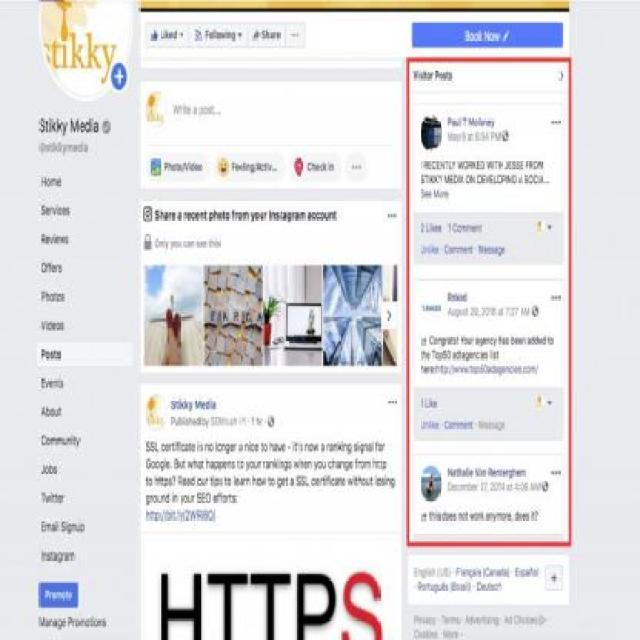0: (446, 349, 451, 360), (483, 363, 488, 374), (484, 307, 490, 316), (494, 482, 498, 492), (521, 482, 524, 492)
1: (251, 416, 254, 427), (420, 398, 422, 408), (498, 482, 500, 492), (448, 223, 450, 232), (489, 307, 491, 316)
2: (185, 509, 190, 520), (480, 307, 486, 316), (479, 482, 484, 492), (420, 223, 425, 232), (470, 307, 475, 316), (491, 482, 494, 492), (512, 307, 514, 316)
4: (500, 482, 506, 492), (484, 132, 490, 140), (514, 482, 518, 492)
5: (479, 363, 484, 374), (442, 351, 447, 358), (482, 132, 484, 140)
6: (474, 130, 480, 142), (492, 306, 496, 317), (524, 482, 528, 492)
7: (514, 307, 518, 316), (484, 482, 487, 492), (506, 307, 508, 316)
8: (203, 509, 208, 520)
9: (462, 130, 466, 142), (474, 307, 478, 316)
A: (334, 477, 340, 486), (518, 174, 524, 183), (256, 162, 261, 172), (529, 482, 534, 492), (176, 212, 182, 220), (294, 212, 300, 220), (306, 212, 312, 220), (184, 444, 190, 452), (238, 444, 244, 452), (238, 478, 244, 486), (450, 119, 456, 127), (466, 133, 472, 141), (474, 337, 480, 345), (486, 366, 492, 374), (478, 469, 484, 477), (484, 512, 490, 520), (464, 616, 470, 624), (193, 106, 198, 115), (186, 477, 191, 486), (289, 477, 294, 486), (520, 307, 525, 316), (460, 174, 465, 183), (539, 174, 544, 183), (94, 121, 98, 132), (41, 406, 45, 417), (196, 461, 202, 468), (45, 618, 49, 628), (54, 618, 58, 628), (269, 32, 274, 40), (282, 212, 287, 220), (320, 444, 325, 452), (452, 133, 457, 141), (489, 569, 494, 577), (164, 211, 168, 220), (448, 307, 452, 316), (212, 402, 217, 409), (210, 461, 215, 468), (265, 461, 270, 468), (336, 461, 341, 468), (452, 352, 457, 359), (84, 144, 88, 152), (51, 524, 55, 532), (54, 552, 58, 560), (274, 444, 278, 452), (368, 444, 372, 452), (498, 308, 502, 316), (502, 337, 506, 345), (494, 366, 498, 374), (452, 469, 456, 477), (458, 584, 462, 592), (504, 616, 508, 624), (187, 240, 190, 248), (330, 444, 333, 452), (494, 246, 497, 254), (494, 422, 498, 428), (462, 470, 466, 476), (507, 484, 510, 492), (462, 570, 466, 576), (473, 569, 476, 577), (497, 569, 500, 577), (504, 569, 507, 577), (526, 569, 529, 577), (66, 552, 68, 560), (448, 337, 450, 345), (426, 617, 428, 625), (528, 338, 530, 344), (462, 352, 464, 358)
B: (174, 458, 180, 469), (166, 509, 171, 520), (46, 406, 50, 416), (50, 464, 54, 474), (465, 32, 470, 40), (468, 482, 472, 492), (452, 582, 457, 590), (202, 417, 205, 426), (180, 417, 182, 426), (512, 336, 514, 344)
C: (444, 419, 450, 430), (306, 162, 312, 172), (429, 334, 434, 346), (453, 222, 458, 233), (330, 477, 336, 486), (444, 244, 450, 253), (41, 434, 45, 446), (190, 212, 196, 220), (160, 444, 166, 452), (180, 444, 186, 452), (310, 478, 316, 486), (484, 568, 490, 576), (514, 614, 518, 626), (526, 617, 532, 625), (533, 174, 538, 183), (432, 160, 436, 171), (260, 163, 265, 171), (319, 164, 324, 172), (316, 212, 321, 220), (250, 444, 255, 452), (508, 367, 514, 373), (312, 212, 316, 220), (414, 630, 418, 638), (183, 241, 188, 247), (522, 367, 527, 373), (58, 208, 62, 215), (328, 461, 332, 468), (494, 584, 497, 592), (476, 352, 479, 359), (490, 338, 493, 344), (456, 484, 459, 490), (430, 617, 432, 623)
D: (84, 119, 90, 132), (190, 162, 196, 172), (172, 29, 177, 40), (205, 398, 210, 409), (165, 492, 170, 503), (480, 161, 486, 170), (476, 174, 482, 183), (190, 476, 195, 486), (462, 292, 467, 302), (542, 334, 546, 346), (514, 512, 520, 520), (508, 614, 512, 626), (196, 417, 201, 426), (78, 142, 82, 153), (48, 320, 52, 331), (454, 173, 458, 184), (448, 482, 452, 492), (476, 582, 481, 590), (456, 349, 459, 360), (442, 512, 446, 520), (532, 334, 534, 346), (501, 568, 504, 576), (470, 614, 472, 626), (536, 334, 538, 344), (492, 364, 494, 372)
E: (78, 121, 85, 132), (200, 492, 206, 503), (234, 477, 240, 486), (280, 477, 286, 486), (340, 477, 346, 486), (194, 164, 200, 172), (238, 164, 244, 172), (186, 212, 192, 220), (194, 212, 200, 220), (164, 444, 170, 452), (190, 444, 196, 452), (254, 444, 260, 452), (280, 444, 286, 452), (434, 246, 440, 254), (500, 246, 506, 254), (514, 337, 520, 345), (430, 632, 436, 640), (454, 632, 460, 640), (45, 207, 50, 216), (186, 106, 191, 115), (230, 444, 235, 453), (182, 477, 187, 486), (315, 477, 320, 486), (436, 161, 441, 170), (508, 160, 512, 171), (200, 402, 206, 409), (470, 225, 476, 232), (468, 352, 474, 359), (434, 422, 440, 429), (500, 422, 506, 429), (73, 144, 78, 152), (56, 178, 60, 188), (45, 236, 50, 244), (62, 618, 66, 628), (41, 378, 45, 388), (41, 522, 45, 532), (199, 240, 204, 248), (203, 240, 208, 248), (213, 495, 218, 503), (459, 294, 464, 302), (482, 337, 487, 345), (502, 469, 507, 477), (516, 469, 521, 477), (449, 513, 454, 521), (62, 207, 66, 216), (51, 264, 55, 273), (172, 211, 176, 220), (458, 484, 464, 490), (444, 618, 450, 624), (428, 161, 432, 170), (166, 461, 171, 468), (222, 461, 227, 468), (303, 461, 308, 468), (349, 461, 354, 468), (426, 352, 431, 359), (477, 160, 480, 171), (450, 173, 453, 184), (490, 173, 493, 184), (55, 236, 59, 244), (52, 322, 56, 330), (49, 380, 53, 388), (58, 495, 62, 503), (68, 592, 72, 600), (424, 190, 428, 198), (428, 190, 432, 198), (484, 246, 488, 254), (538, 337, 542, 345), (502, 366, 506, 374), (514, 366, 518, 374), (492, 469, 496, 477), (452, 484, 456, 492), (472, 484, 476, 492), (508, 513, 512, 521), (414, 568, 418, 576), (276, 32, 281, 38), (433, 401, 438, 407), (475, 618, 480, 624), (434, 225, 438, 232), (484, 422, 488, 429), (520, 161, 523, 170), (316, 164, 319, 172), (193, 418, 196, 426), (464, 246, 467, 254), (518, 338, 522, 344), (424, 367, 428, 373), (431, 366, 434, 374), (470, 469, 473, 477), (523, 513, 526, 521), (531, 617, 534, 625), (216, 417, 218, 426), (464, 422, 467, 428), (482, 174, 484, 183), (170, 32, 172, 40), (236, 164, 238, 172), (446, 190, 448, 198), (516, 568, 518, 576), (482, 352, 484, 359), (488, 120, 490, 126), (482, 584, 484, 590)
F: (230, 162, 236, 172), (455, 567, 460, 578), (525, 160, 530, 169), (204, 31, 210, 38), (176, 441, 179, 452), (46, 262, 48, 273), (49, 262, 51, 273), (232, 209, 234, 220), (376, 441, 378, 452), (220, 492, 222, 503), (355, 458, 357, 468), (326, 476, 328, 486), (218, 492, 219, 503)
G: (344, 461, 350, 472), (496, 246, 502, 257), (478, 337, 484, 348), (464, 351, 470, 362), (286, 212, 292, 222), (346, 444, 352, 454), (276, 478, 282, 488), (390, 478, 396, 488), (225, 443, 230, 454), (359, 443, 364, 454), (159, 461, 164, 472), (283, 461, 288, 472), (146, 458, 151, 469), (512, 173, 517, 184), (57, 618, 61, 630), (230, 32, 236, 40), (440, 338, 446, 346), (250, 164, 255, 173), (57, 552, 61, 563), (68, 524, 72, 534), (146, 494, 149, 506), (434, 584, 438, 593), (498, 367, 502, 375), (422, 568, 424, 580), (456, 308, 458, 318), (498, 422, 500, 432), (496, 617, 498, 626), (510, 471, 512, 478)
H: (498, 160, 504, 171), (252, 474, 257, 486), (159, 209, 164, 220), (213, 209, 218, 220), (269, 441, 274, 452), (373, 458, 378, 469), (193, 458, 198, 468), (206, 458, 211, 468), (299, 458, 304, 468), (332, 458, 337, 468), (358, 474, 362, 486), (42, 176, 46, 187), (168, 162, 172, 172), (312, 162, 316, 172), (420, 364, 425, 372), (46, 290, 49, 302), (146, 509, 149, 520), (513, 467, 516, 478), (498, 336, 502, 344), (432, 568, 436, 576), (518, 616, 522, 624), (257, 417, 260, 426), (234, 417, 237, 425), (436, 364, 439, 372), (498, 580, 500, 592), (266, 31, 269, 38), (423, 351, 426, 358), (212, 238, 214, 248), (156, 476, 158, 486), (190, 417, 192, 426), (460, 468, 462, 476), (432, 512, 434, 520)
I: (244, 160, 247, 172), (174, 441, 177, 452), (163, 29, 166, 38), (49, 119, 51, 132), (92, 119, 94, 132), (72, 434, 74, 446), (55, 520, 57, 532), (66, 520, 68, 532), (183, 417, 186, 425), (325, 474, 327, 486), (329, 474, 331, 486), (353, 474, 355, 486), (384, 474, 386, 486), (526, 614, 528, 626), (52, 142, 54, 153), (82, 142, 84, 153), (56, 203, 58, 214), (54, 233, 56, 244), (92, 616, 94, 627), (46, 319, 48, 330), (182, 103, 184, 114), (178, 398, 180, 409), (179, 441, 181, 452), (249, 441, 251, 452), (292, 441, 294, 452), (342, 441, 344, 452), (358, 441, 360, 452), (172, 492, 174, 503), (269, 209, 271, 220), (202, 509, 204, 520), (423, 70, 425, 81), (266, 162, 268, 172), (278, 458, 280, 468), (430, 222, 432, 232), (428, 398, 430, 408), (226, 29, 228, 38), (418, 71, 420, 80), (430, 244, 432, 253), (426, 567, 428, 576), (420, 161, 422, 170), (492, 161, 494, 170), (458, 174, 460, 183), (506, 174, 508, 183), (538, 174, 540, 183), (189, 162, 191, 170), (328, 162, 330, 170), (512, 364, 514, 372), (468, 468, 470, 476), (435, 512, 437, 520), (530, 512, 532, 520), (476, 568, 478, 576), (465, 582, 467, 590), (420, 615, 422, 623), (484, 616, 486, 624), (489, 615, 491, 623), (429, 630, 431, 638), (428, 175, 430, 183), (479, 351, 481, 358), (492, 351, 494, 358), (430, 421, 432, 428), (213, 474, 214, 486), (211, 398, 212, 409), (198, 441, 199, 452), (171, 509, 172, 520), (51, 492, 52, 502), (216, 238, 217, 248), (41, 552, 42, 560)
J: (40, 464, 45, 474), (506, 160, 508, 171), (213, 508, 214, 522)
K: (69, 33, 86, 69), (86, 32, 102, 70), (478, 30, 484, 42), (184, 398, 190, 409), (165, 28, 170, 40), (180, 398, 185, 409), (52, 119, 56, 132), (57, 119, 61, 132), (472, 161, 477, 170), (54, 142, 58, 153), (59, 142, 63, 153), (338, 441, 342, 452), (274, 458, 278, 468), (432, 244, 436, 253), (434, 174, 438, 183), (456, 292, 459, 302), (431, 398, 434, 408), (432, 421, 436, 428), (431, 174, 434, 183), (323, 162, 326, 170), (481, 512, 484, 520), (427, 630, 430, 638), (432, 223, 434, 232)
L: (304, 476, 310, 486), (448, 161, 452, 170), (163, 238, 166, 248), (163, 458, 166, 468), (426, 223, 429, 232), (494, 174, 497, 183), (374, 474, 376, 486), (372, 441, 374, 452), (156, 441, 158, 452), (160, 31, 163, 38), (214, 31, 217, 38), (426, 398, 428, 408), (459, 117, 461, 126), (478, 117, 480, 126), (429, 244, 431, 253), (466, 467, 468, 476), (242, 162, 244, 170), (182, 418, 184, 426), (425, 568, 427, 576), (536, 568, 538, 576), (466, 582, 468, 590), (490, 351, 492, 358), (429, 421, 431, 428), (58, 520, 59, 532), (233, 474, 234, 486), (216, 441, 217, 452), (178, 509, 179, 520), (213, 31, 214, 38)
M: (70, 119, 79, 132), (196, 399, 202, 410), (534, 482, 540, 492), (39, 616, 44, 627), (524, 307, 530, 316), (538, 161, 544, 170), (444, 174, 450, 183), (67, 144, 73, 152), (50, 178, 56, 186), (50, 437, 56, 445), (57, 437, 63, 445), (68, 552, 74, 560), (80, 619, 86, 627), (242, 212, 248, 220), (300, 212, 306, 220), (458, 246, 464, 254), (496, 512, 502, 520), (219, 417, 224, 426), (469, 118, 474, 127), (479, 244, 484, 253), (46, 524, 51, 532), (56, 592, 61, 600), (495, 132, 500, 140), (466, 226, 472, 232), (458, 422, 464, 428), (520, 470, 526, 476), (450, 618, 456, 624), (530, 367, 536, 373), (365, 461, 370, 468), (479, 421, 484, 428), (448, 132, 452, 140), (434, 190, 438, 198), (444, 630, 448, 638), (453, 247, 458, 253), (453, 422, 458, 428), (463, 484, 468, 490), (462, 225, 466, 232)
N: (470, 174, 476, 183), (66, 437, 72, 445), (270, 212, 276, 220), (204, 444, 210, 452), (220, 444, 226, 452), (244, 444, 250, 452), (304, 444, 310, 452), (160, 495, 166, 503), (484, 32, 490, 40), (474, 225, 480, 233), (490, 617, 496, 625), (440, 161, 445, 170), (226, 461, 232, 468), (199, 212, 204, 220), (329, 212, 334, 220), (333, 444, 338, 452), (363, 444, 368, 452), (343, 444, 348, 452), (246, 478, 251, 486), (386, 478, 391, 486), (173, 495, 178, 503), (483, 119, 488, 127), (492, 569, 497, 577), (508, 174, 512, 183), (269, 461, 274, 468), (279, 461, 284, 468), (340, 461, 345, 468), (54, 380, 58, 388), (72, 524, 76, 532), (42, 552, 46, 560), (50, 619, 54, 627), (98, 619, 102, 627), (458, 512, 462, 520), (448, 468, 452, 476), (159, 241, 164, 247), (190, 241, 195, 247), (308, 461, 312, 468), (228, 32, 232, 38), (247, 164, 250, 172), (467, 246, 470, 254), (452, 294, 456, 300), (522, 338, 526, 344), (418, 570, 422, 576), (330, 164, 333, 170), (487, 338, 490, 344), (473, 352, 476, 358), (506, 367, 509, 373), (467, 422, 470, 428), (483, 470, 486, 476), (496, 470, 499, 476), (466, 569, 468, 577), (426, 247, 428, 253), (438, 338, 440, 344), (426, 422, 428, 428), (490, 513, 492, 519)
O: (208, 509, 214, 520), (496, 173, 502, 184), (528, 173, 534, 184), (154, 238, 160, 248), (474, 32, 480, 42), (206, 492, 211, 503), (466, 173, 471, 184), (148, 477, 154, 486), (226, 477, 232, 486), (270, 477, 276, 486), (489, 32, 494, 42), (74, 619, 80, 627), (254, 212, 260, 220), (216, 444, 222, 452), (308, 444, 314, 452), (196, 478, 202, 486), (438, 72, 444, 80), (518, 512, 524, 520), (203, 106, 208, 115), (256, 477, 261, 486), (376, 477, 381, 486), (533, 161, 538, 170), (42, 262, 46, 273), (456, 225, 462, 232), (448, 422, 454, 429), (50, 408, 55, 416), (225, 212, 230, 220), (320, 212, 325, 220), (209, 444, 214, 452), (263, 444, 268, 452), (153, 495, 158, 503), (183, 495, 188, 503), (222, 495, 227, 503), (469, 33, 474, 41), (549, 337, 554, 345), (445, 513, 450, 521), (533, 569, 538, 577), (208, 32, 214, 38), (238, 211, 242, 220), (362, 477, 366, 486), (438, 192, 444, 198), (420, 584, 426, 590), (448, 632, 454, 638), (464, 160, 468, 169), (45, 351, 50, 358), (155, 461, 160, 468), (239, 461, 244, 468), (249, 461, 254, 468), (360, 461, 365, 468), (46, 178, 50, 186), (50, 294, 54, 302), (56, 294, 60, 302), (56, 322, 60, 330), (46, 437, 50, 445), (45, 466, 49, 474), (62, 592, 66, 600), (94, 619, 98, 627), (172, 164, 176, 172), (178, 164, 182, 172), (198, 163, 202, 171), (218, 212, 222, 220), (378, 444, 382, 452), (474, 118, 478, 126), (216, 32, 221, 38), (426, 73, 431, 79), (479, 120, 484, 126), (433, 338, 438, 344), (463, 338, 468, 344), (526, 367, 531, 373), (318, 461, 322, 468), (52, 592, 56, 598), (86, 619, 89, 627), (174, 242, 178, 248), (472, 367, 476, 373), (462, 514, 466, 520), (474, 514, 478, 520), (522, 617, 526, 623), (422, 632, 426, 638), (502, 512, 504, 520), (152, 461, 154, 468), (436, 352, 438, 359), (450, 247, 452, 253), (420, 632, 422, 638)
P: (218, 461, 224, 472), (214, 477, 220, 488), (208, 212, 214, 222), (199, 106, 204, 117), (382, 461, 387, 472), (170, 417, 176, 426), (434, 71, 440, 80), (41, 290, 45, 302), (41, 349, 45, 360), (68, 617, 72, 628), (214, 461, 218, 472), (164, 477, 168, 488), (502, 173, 506, 184), (164, 162, 168, 172), (439, 352, 444, 360), (448, 117, 452, 126), (45, 590, 49, 598), (444, 367, 448, 375), (522, 570, 526, 578), (418, 582, 422, 590), (414, 616, 418, 624), (81, 524, 84, 534), (156, 512, 159, 522), (492, 132, 494, 140)
R: (196, 510, 202, 521), (528, 160, 534, 171), (41, 233, 45, 244), (488, 467, 492, 478), (178, 476, 182, 486), (448, 292, 452, 302), (424, 161, 428, 170), (468, 161, 472, 170), (168, 212, 172, 220), (262, 461, 266, 468), (180, 107, 183, 115), (184, 212, 187, 220), (235, 212, 238, 220), (264, 212, 267, 220), (234, 444, 237, 452), (243, 478, 246, 486), (150, 495, 153, 503), (274, 32, 277, 38), (224, 418, 227, 424), (260, 418, 263, 424), (480, 618, 483, 624), (56, 264, 58, 272), (62, 494, 64, 502), (62, 552, 64, 560), (73, 619, 75, 627), (292, 212, 294, 220), (170, 444, 172, 452), (328, 444, 330, 452), (383, 444, 385, 452), (206, 478, 208, 486), (320, 478, 322, 486), (192, 495, 194, 503), (226, 495, 228, 503), (50, 208, 52, 215), (258, 461, 260, 468), (358, 461, 360, 468), (50, 592, 52, 598), (432, 73, 434, 79), (443, 192, 445, 198), (446, 338, 448, 344), (472, 338, 474, 344), (428, 367, 430, 373), (506, 470, 508, 476), (476, 484, 478, 490), (506, 513, 508, 519), (460, 570, 462, 576), (426, 584, 428, 590), (456, 584, 458, 590), (418, 617, 420, 623), (449, 618, 451, 624), (453, 632, 455, 638), (478, 513, 480, 519)
S: (40, 118, 46, 134), (154, 209, 160, 220), (170, 398, 176, 409), (150, 441, 156, 452), (60, 522, 66, 532), (300, 476, 306, 486), (420, 188, 425, 200), (146, 441, 151, 452), (196, 492, 201, 503), (218, 477, 224, 486), (210, 417, 216, 426), (524, 174, 530, 183), (296, 476, 301, 486), (41, 204, 45, 216), (198, 444, 204, 452), (298, 444, 304, 452), (444, 584, 450, 592), (66, 207, 71, 216), (515, 161, 520, 170), (420, 174, 425, 183), (230, 461, 236, 468), (45, 144, 50, 152), (60, 322, 65, 330), (102, 618, 106, 628), (275, 212, 280, 220), (442, 72, 447, 80), (505, 337, 510, 345), (58, 264, 62, 273), (168, 477, 172, 486), (512, 161, 516, 170), (60, 380, 64, 388), (54, 466, 58, 474), (47, 552, 51, 560), (438, 225, 442, 233), (518, 366, 522, 374), (534, 617, 538, 625), (434, 632, 438, 640), (444, 568, 448, 576), (50, 352, 54, 359), (56, 352, 60, 359), (262, 31, 266, 38), (288, 461, 292, 468), (61, 293, 64, 302), (217, 240, 220, 248), (230, 418, 233, 426), (354, 444, 357, 452), (232, 495, 235, 503), (491, 246, 494, 254), (463, 308, 466, 316), (453, 337, 456, 345), (484, 352, 488, 358), (437, 513, 440, 521), (453, 513, 456, 521), (428, 570, 432, 576), (462, 584, 466, 590), (491, 584, 494, 592), (457, 617, 460, 625), (196, 241, 199, 247), (493, 353, 496, 359), (491, 422, 494, 428), (526, 513, 529, 519), (486, 618, 489, 624), (66, 236, 68, 244), (208, 107, 210, 115), (186, 418, 188, 426), (382, 478, 384, 486), (420, 72, 422, 80), (450, 72, 452, 80), (488, 246, 490, 254), (478, 569, 480, 577), (520, 569, 522, 577), (488, 422, 490, 428)
T: (51, 40, 60, 68), (444, 161, 450, 170), (494, 160, 500, 169), (440, 616, 446, 624), (462, 117, 467, 126), (58, 406, 62, 417), (41, 492, 45, 503), (294, 441, 298, 452), (228, 492, 232, 503), (152, 510, 156, 521), (188, 442, 192, 452), (158, 476, 162, 486), (338, 476, 342, 486), (46, 120, 49, 132), (184, 104, 187, 116), (211, 104, 214, 116), (260, 441, 263, 452), (183, 458, 186, 469), (201, 458, 204, 469), (237, 458, 240, 469), (161, 476, 164, 487), (150, 510, 153, 521), (172, 510, 175, 521), (208, 239, 212, 247), (424, 72, 428, 80), (210, 476, 213, 486), (224, 476, 227, 486), (510, 482, 513, 492), (478, 225, 482, 232), (432, 351, 436, 358), (204, 210, 207, 219), (222, 210, 225, 219), (280, 210, 283, 219), (54, 292, 57, 300), (51, 552, 54, 560), (264, 163, 267, 171), (450, 336, 453, 344), (547, 336, 550, 344), (378, 458, 380, 469), (380, 458, 382, 469), (54, 351, 57, 358), (420, 351, 423, 358), (470, 422, 473, 429), (176, 162, 178, 172), (172, 442, 174, 452), (146, 476, 148, 486), (268, 476, 270, 486), (286, 476, 288, 486), (322, 476, 324, 486), (355, 476, 357, 486), (370, 476, 372, 486), (50, 143, 52, 152), (52, 494, 54, 503), (334, 210, 336, 219), (466, 307, 468, 316), (502, 308, 504, 317), (446, 71, 448, 80), (426, 174, 428, 183), (74, 437, 76, 445), (55, 494, 57, 502), (66, 590, 68, 598), (90, 618, 92, 626), (470, 246, 472, 254), (472, 132, 474, 140), (439, 365, 441, 373), (442, 365, 444, 373), (470, 364, 472, 372), (456, 469, 458, 477), (500, 468, 502, 476), (429, 512, 431, 520), (466, 512, 468, 520), (533, 512, 535, 520), (428, 583, 430, 591), (489, 583, 491, 591), (482, 616, 484, 624), (176, 401, 178, 408), (496, 351, 498, 358), (58, 379, 59, 387)
U: (324, 212, 330, 220), (200, 478, 206, 486), (420, 244, 425, 253), (420, 421, 426, 428), (76, 524, 81, 532), (259, 212, 264, 220), (366, 478, 371, 486), (439, 568, 444, 576), (454, 120, 460, 126), (450, 310, 456, 316), (458, 310, 464, 316), (55, 409, 59, 417), (62, 437, 66, 445), (188, 495, 192, 503), (430, 584, 435, 590), (254, 461, 258, 468), (322, 461, 326, 468), (178, 241, 182, 247), (227, 418, 230, 424), (158, 495, 160, 503), (468, 337, 470, 345), (180, 461, 182, 468), (176, 420, 178, 426), (438, 584, 440, 590), (486, 584, 488, 590)
V: (184, 162, 190, 172), (474, 468, 480, 478), (413, 70, 418, 81), (485, 174, 490, 183), (41, 320, 45, 331), (50, 236, 54, 244), (45, 380, 49, 388), (268, 164, 272, 172), (278, 444, 282, 452), (52, 208, 56, 215), (422, 617, 426, 623), (473, 618, 476, 624)
W: (173, 104, 181, 115), (189, 510, 197, 521), (487, 160, 493, 171), (494, 32, 500, 42), (457, 161, 463, 170), (44, 495, 50, 503), (312, 444, 318, 452), (260, 478, 266, 486), (347, 478, 353, 486), (187, 461, 193, 468), (294, 461, 300, 468), (60, 236, 65, 244), (220, 32, 226, 38), (470, 514, 475, 520), (459, 367, 464, 373), (454, 367, 458, 373), (464, 367, 468, 373)
Y: (100, 44, 118, 86), (188, 401, 194, 412), (438, 173, 444, 184), (179, 494, 184, 506), (178, 512, 184, 522), (62, 122, 66, 136), (245, 461, 250, 472), (313, 461, 318, 472), (490, 119, 496, 128), (75, 438, 80, 448), (205, 418, 210, 428), (62, 144, 66, 156), (460, 336, 465, 344), (432, 617, 436, 626), (452, 160, 456, 169), (457, 133, 460, 144), (494, 337, 497, 348), (493, 512, 496, 522), (171, 240, 174, 249), (252, 212, 254, 222), (166, 240, 168, 249)
